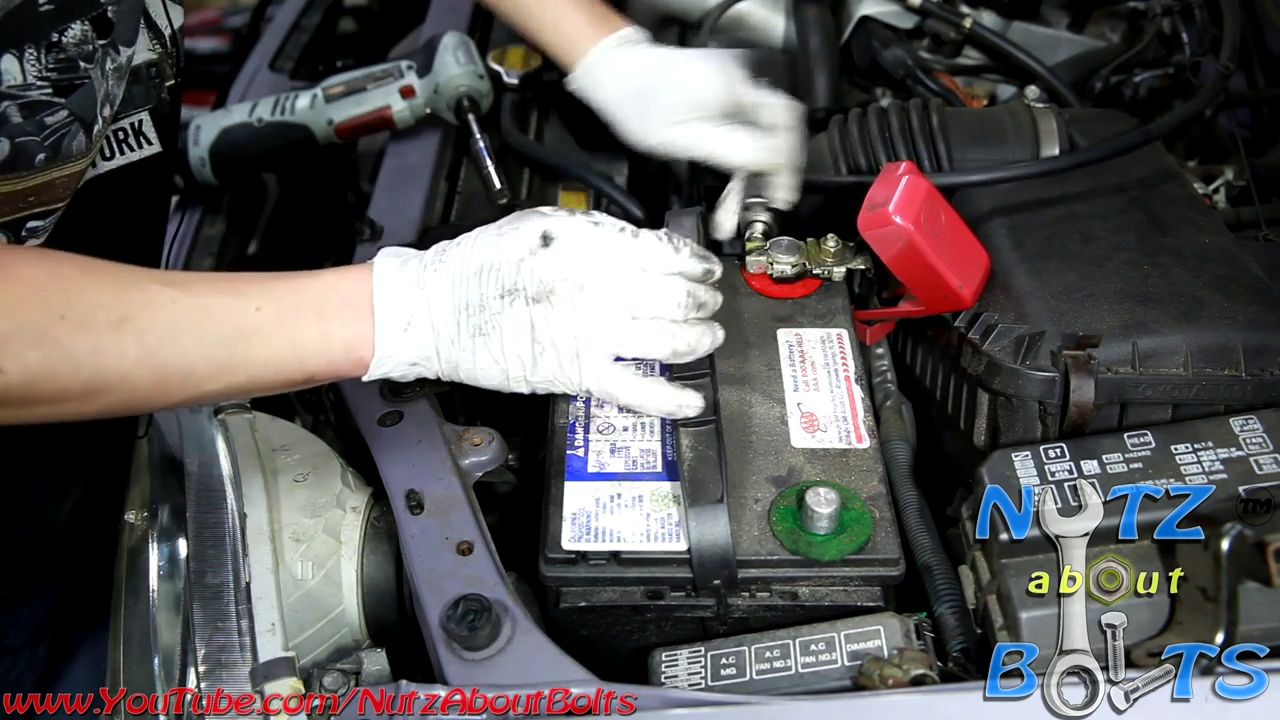battery: (554, 182, 934, 602)
neg_disconnected: (752, 469, 895, 565)
pos_connected: (746, 211, 919, 302)
pos_touched: (687, 122, 936, 330)
